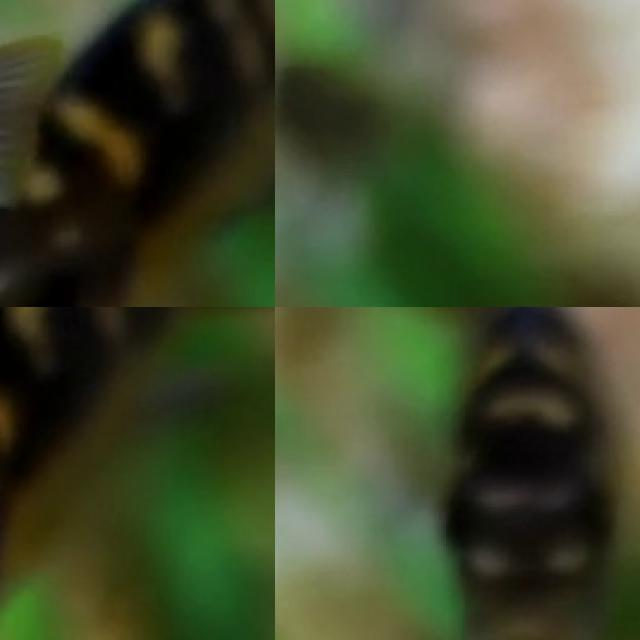fish: (362, 307, 640, 640), (0, 307, 275, 640), (0, 0, 275, 307)
